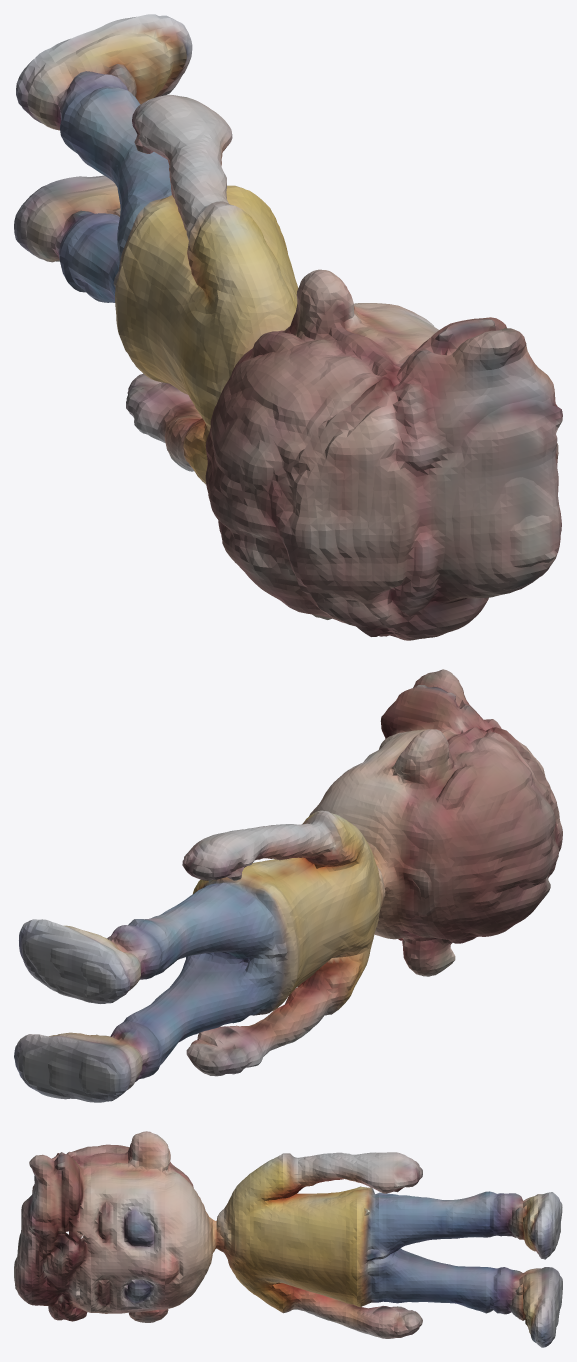
File: human.glb
3 renders of one model, top to bottom at view 1: azimuth 30°, elevation 25°; view 2: azimuth 150°, elevation 25°; view 3: azimuth 270°, elevation 25°, orthographic. The views are drawn at different scales.
Visible parts, largest first — view 1: world; view 2: world; view 3: world.
Part boxes in pixels (x1,y1,x2,y2): world: [14, 14, 562, 640]; world: [14, 669, 562, 1102]; world: [14, 1131, 562, 1347].
Bounding box in the file's own units: 0.4311 × 0.3869 × 1.01.
